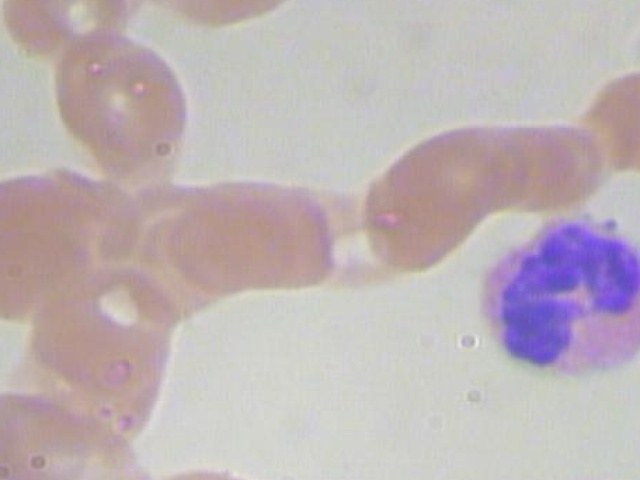RBC: (32, 22, 211, 181), (209, 178, 350, 297), (275, 179, 416, 298), (173, 185, 313, 304), (0, 0, 163, 66), (582, 56, 640, 175), (129, 0, 306, 36)
WBC: (460, 207, 640, 395)
